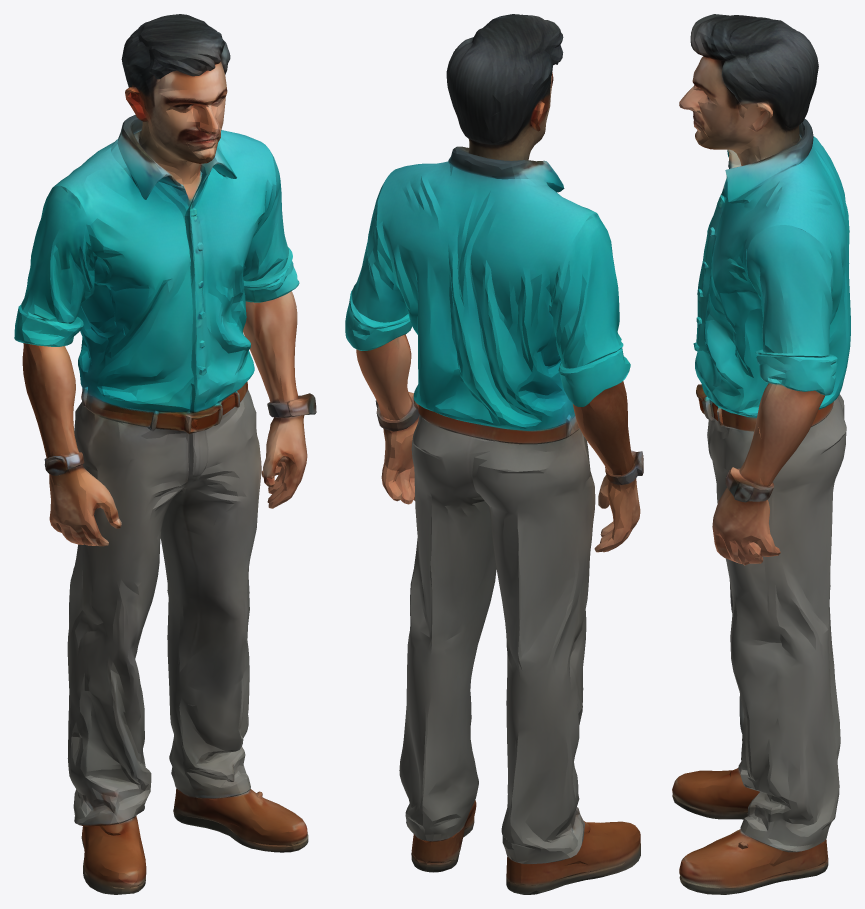
Rendered from hyper3d-indian-man-2.glb.
3 renders of one model, left to right at view 1: azimuth 30°, elevation 25°; view 2: azimuth 150°, elevation 25°; view 3: azimuth 270°, elevation 25°, orthographic.
Visible parts, largest first — view 1: model; view 2: model; view 3: model.
Boxes of the visible parts, x1,y1,x2,y2 form: model: [14, 14, 316, 894]; model: [345, 14, 643, 894]; model: [672, 14, 850, 894].
Size of the model in its own units: 0.6585 by 1.9 by 0.3733.
1 material, 1 textured.
